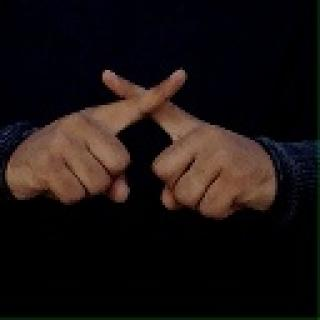X: (31, 67, 244, 217)
